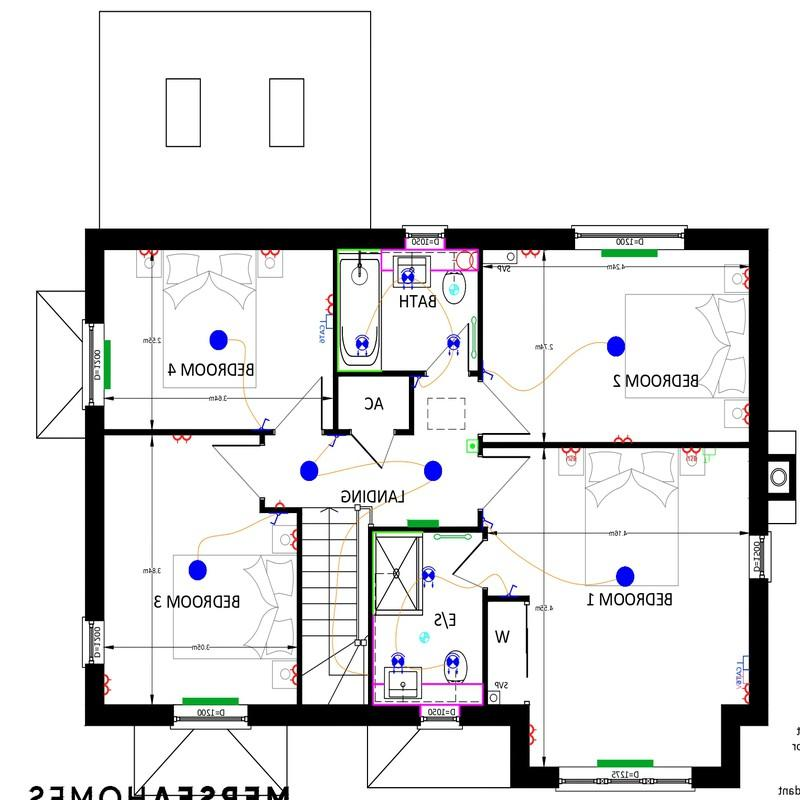Cat 6 Data Socket: (314, 311, 335, 341), (733, 650, 749, 671)
Ceiling Mounted Continuous Extract Fan With Boost Mode Activated By Light Switch: (442, 280, 469, 302), (415, 623, 434, 647)
Co-Ax TV Socket: (730, 669, 752, 686)
Double Socket: (271, 655, 297, 693), (99, 667, 128, 699), (733, 386, 750, 437), (509, 247, 550, 268), (730, 265, 753, 302), (524, 717, 545, 754), (557, 447, 589, 467), (164, 432, 203, 448), (257, 248, 284, 270), (283, 526, 298, 562), (605, 430, 639, 445), (135, 245, 165, 261), (732, 682, 751, 703), (321, 284, 335, 312)
Full Height Tiling: (333, 244, 387, 378), (371, 525, 420, 621)
Light Switch: (257, 512, 285, 537), (481, 362, 499, 392), (500, 578, 522, 599), (253, 408, 274, 428), (481, 508, 497, 534), (325, 434, 354, 448)
Low Energy Downlighter: (442, 327, 464, 367), (419, 562, 444, 596), (442, 645, 464, 683), (385, 650, 416, 675), (351, 332, 373, 366), (395, 266, 420, 295)
Low Energy Pendant Light: (412, 451, 459, 485), (196, 324, 238, 356), (178, 555, 224, 584), (595, 329, 635, 362), (289, 455, 323, 489), (615, 560, 642, 590)
Programmable Room Thermostat: (461, 434, 480, 464)
Radiator: (587, 751, 667, 772), (168, 690, 248, 707), (592, 250, 682, 262), (101, 336, 117, 393), (401, 515, 447, 531)
Shaver Socket: (444, 248, 479, 276)
Single Socket: (267, 496, 295, 509)
USB Double Socket: (676, 446, 700, 466), (700, 446, 721, 468)
